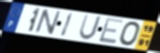1: (28, 7, 42, 34)
E: (97, 17, 125, 45)
I: (58, 12, 74, 39)
N: (33, 9, 63, 37)
O: (118, 21, 142, 47)
U: (77, 13, 104, 42)
